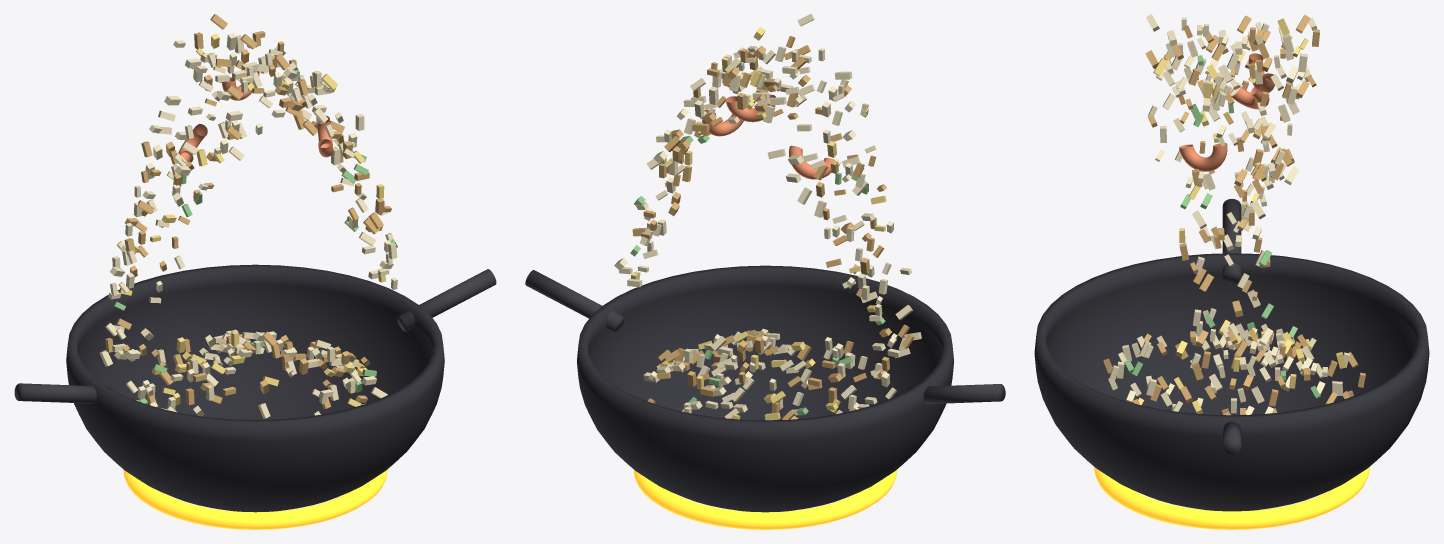
File: unclesoon.glb
3 renders of one model, left to right at view 1: azimuth 30°, elevation 25°; view 2: azimuth 150°, elevation 25°; view 3: azimuth 270°, elevation 25°, orthographic. The views are drawn at different scales.
Visible parts, largest first — view 1: Wok, RiceCloud, FlameRing, HandleR, HandleL; view 2: Wok, RiceCloud, FlameRing, HandleR, HandleL; view 3: Wok, RiceCloud, FlameRing, HandleL, Prawn3, HandleR, Prawn1.
Part boxes in pixels (box(x1,y1,x2,y2)): Wok: box(66, 264, 444, 512); RiceCloud: box(99, 14, 397, 418); FlameRing: box(123, 469, 387, 529); HandleR: box(397, 269, 496, 331); HandleL: box(14, 383, 112, 403); Wok: box(577, 265, 953, 512); RiceCloud: box(614, 14, 921, 420); FlameRing: box(633, 469, 897, 529); HandleR: box(525, 270, 624, 332); HandleL: box(908, 384, 1005, 403); Wok: box(1034, 253, 1429, 511); RiceCloud: box(1103, 14, 1365, 415); FlameRing: box(1094, 467, 1369, 529); HandleL: box(1222, 199, 1241, 284); Prawn3: box(1179, 143, 1227, 171); HandleR: box(1222, 422, 1241, 455); Prawn1: box(1229, 85, 1269, 109).
Bounding box in the file's own units: 4.36 × 3.95 × 3.
